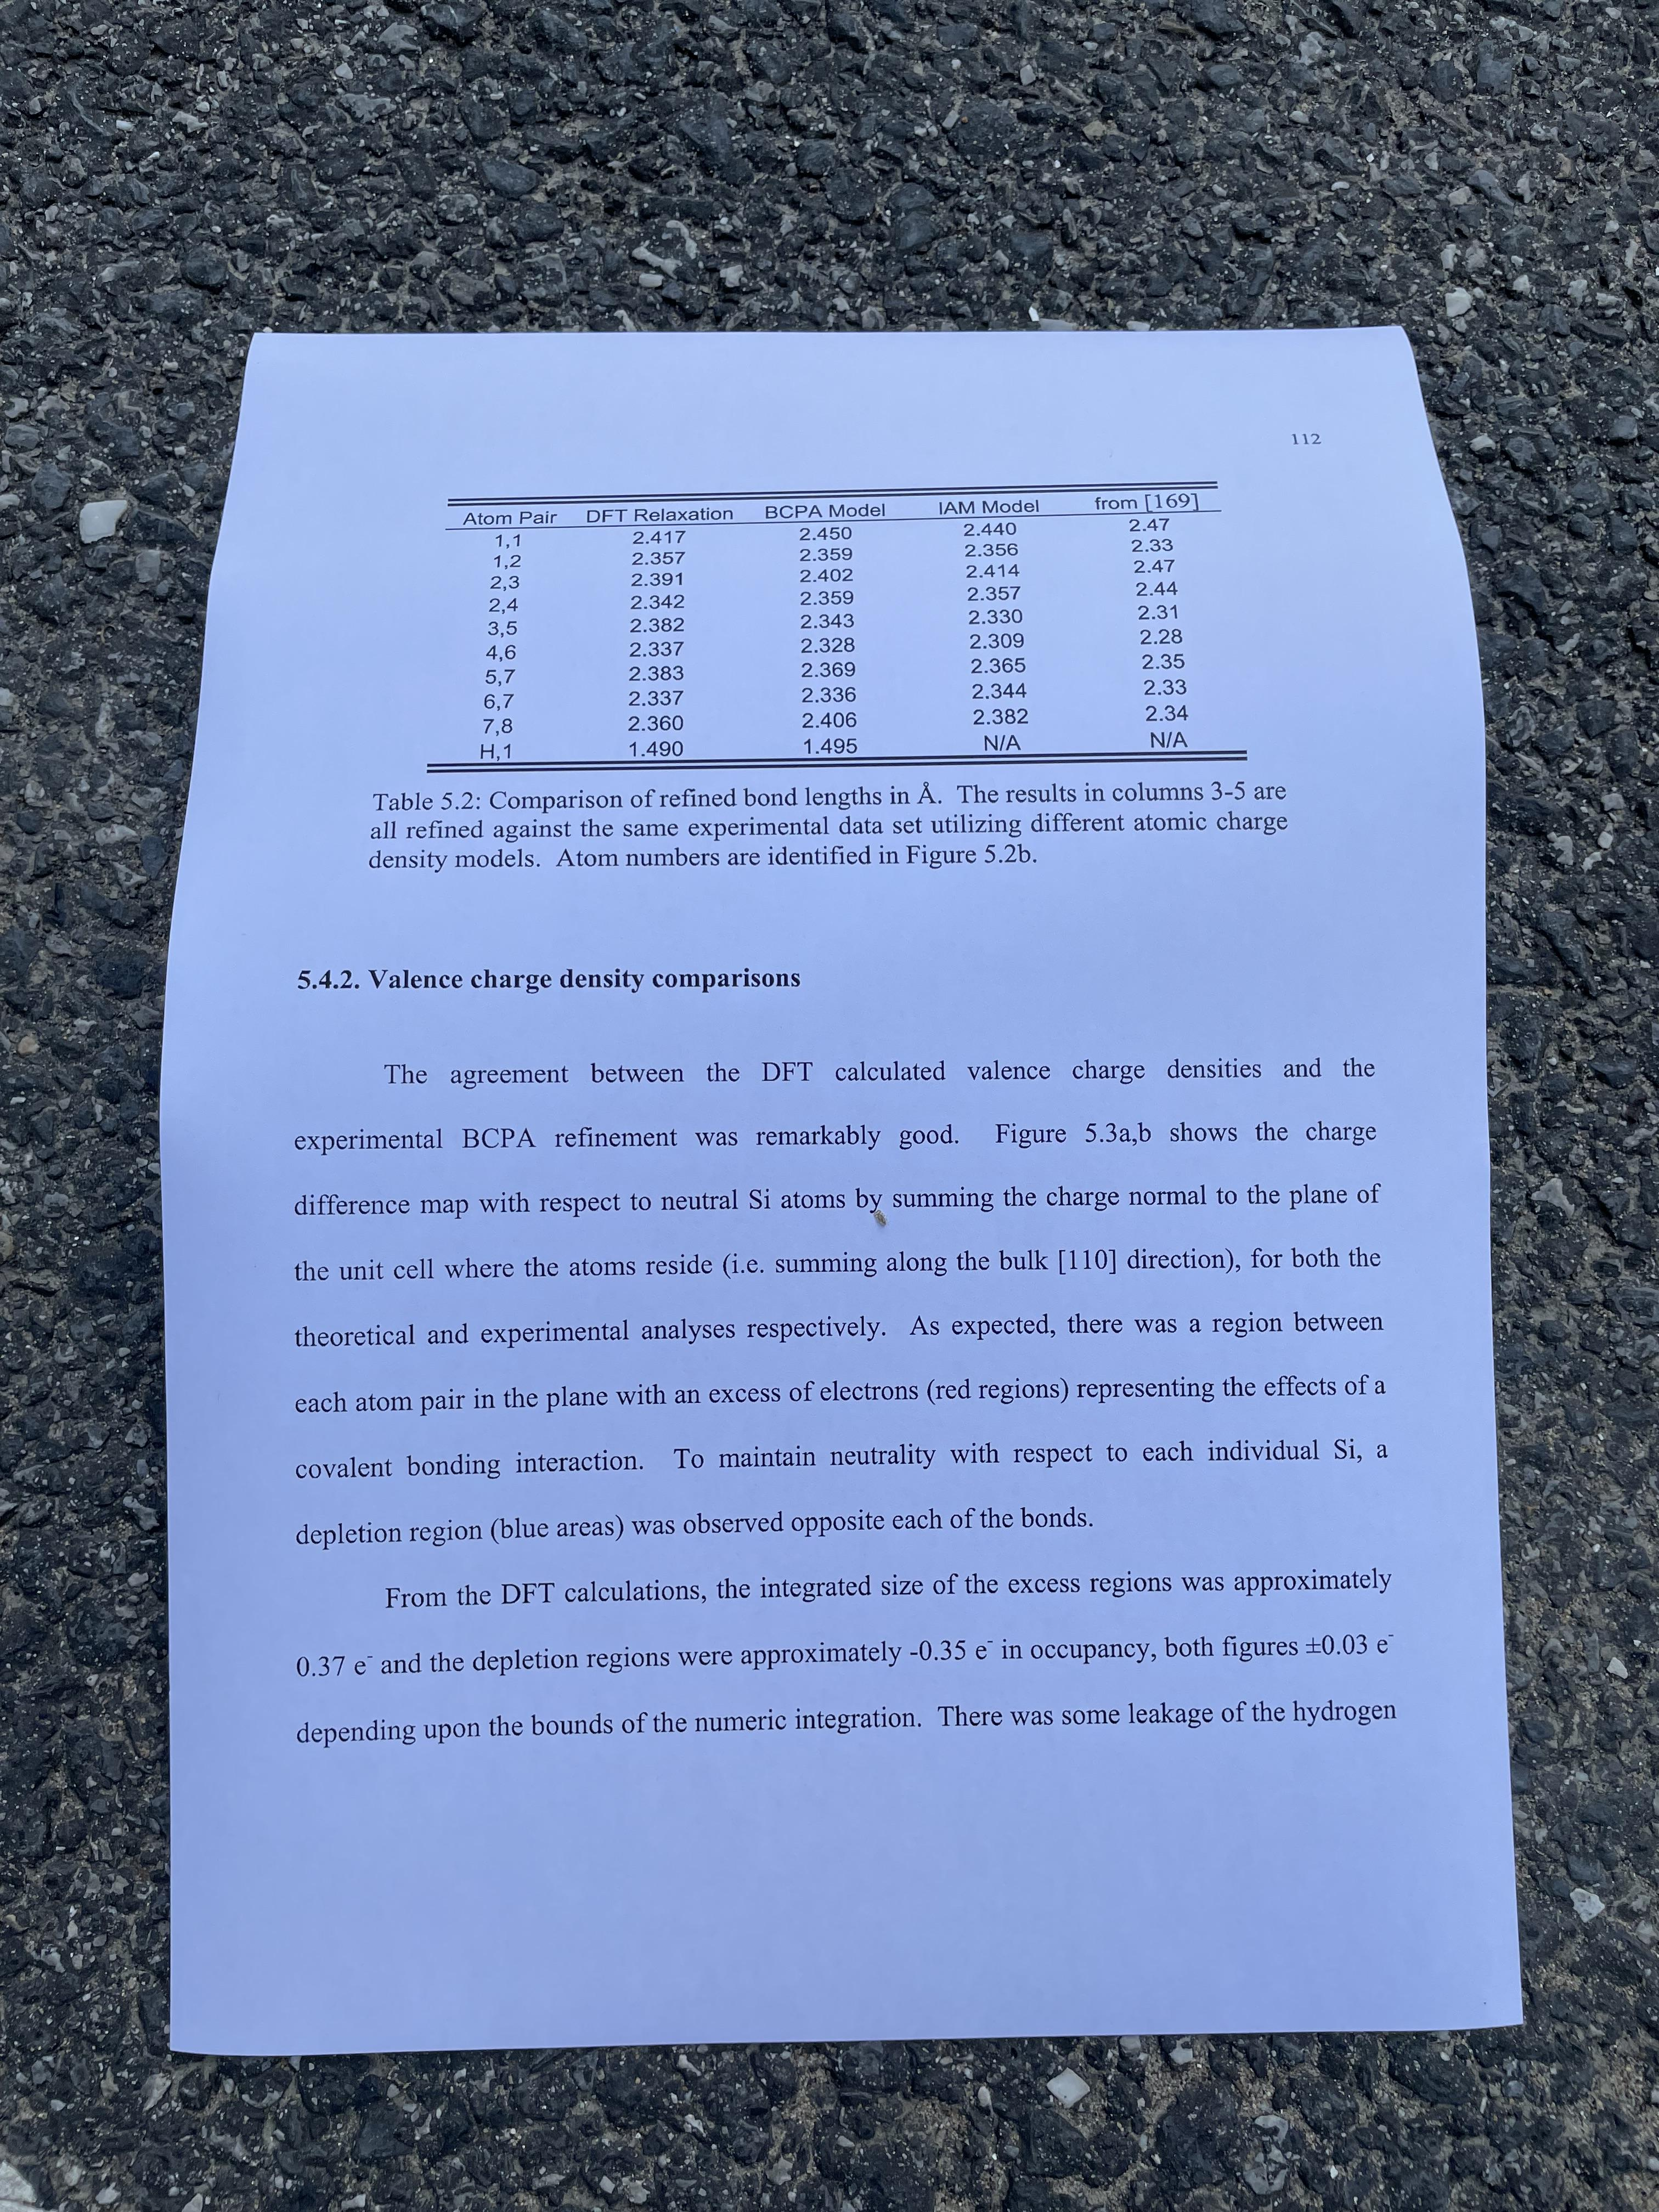paper: (85, 148, 1624, 2139)
